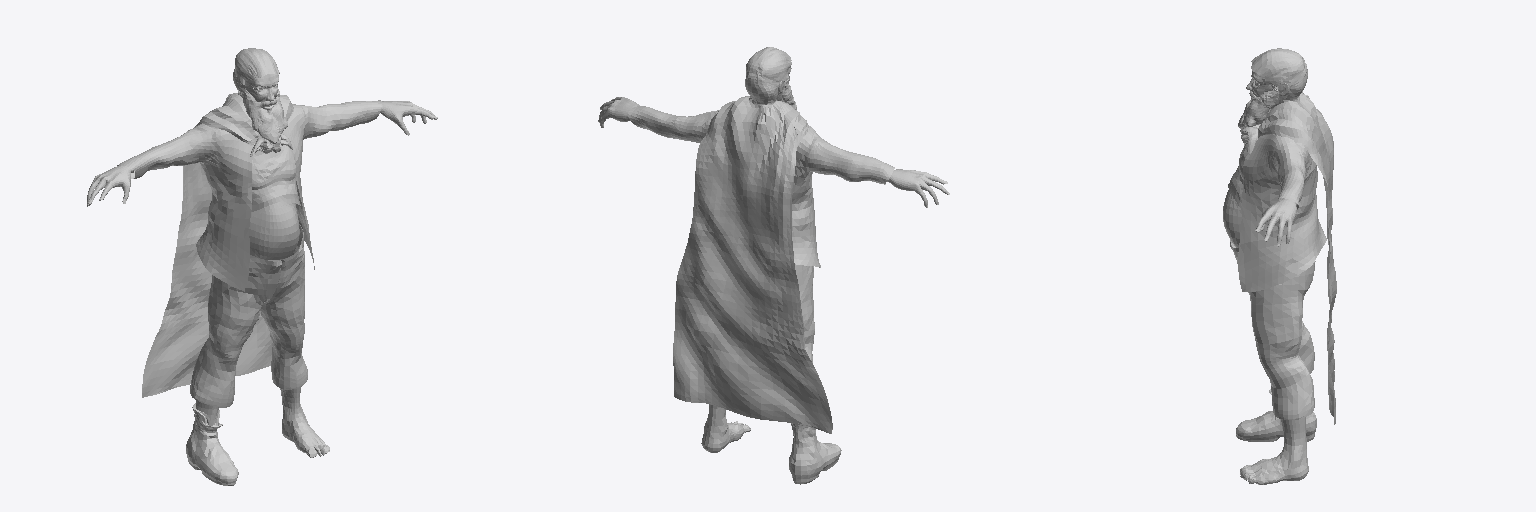
Rendered from mendigoOBJ.obj.
3 renders of one model, left to right at view 1: azimuth 30°, elevation 25°; view 2: azimuth 150°, elevation 25°; view 3: azimuth 270°, elevation 25°, orthographic.
Visible parts, largest first — view 1: Plane003, capa, calca1, mendigo_high, cabelos, camisa_e_nodacapa1; view 2: capa, Plane003, mendigo_high, cabelos, calca1; view 3: Plane003, calca1, mendigo_high, capa, cabelos.
Part boxes in pixels (left/top/right/bottom): Plane003: left=117, top=100, right=381, bottom=291; capa: left=142, top=92, right=293, bottom=397; calca1: left=190, top=224, right=307, bottom=407; mendigo_high: left=87, top=74, right=437, bottom=485; cabelos: left=233, top=48, right=287, bottom=143; camisa_e_nodacapa1: left=251, top=145, right=300, bottom=216; capa: left=673, top=96, right=832, bottom=433; Plane003: left=628, top=106, right=894, bottom=267; mendigo_high: left=598, top=68, right=949, bottom=484; cabelos: left=745, top=47, right=796, bottom=109; calca1: left=795, top=264, right=814, bottom=362; Plane003: left=1238, top=91, right=1326, bottom=291; calca1: left=1230, top=240, right=1315, bottom=419; mendigo_high: left=1223, top=71, right=1316, bottom=484; capa: left=1258, top=93, right=1336, bottom=424; cabelos: left=1238, top=48, right=1307, bottom=128.
Size of the model in its own units: 160 by 180 by 45.32.